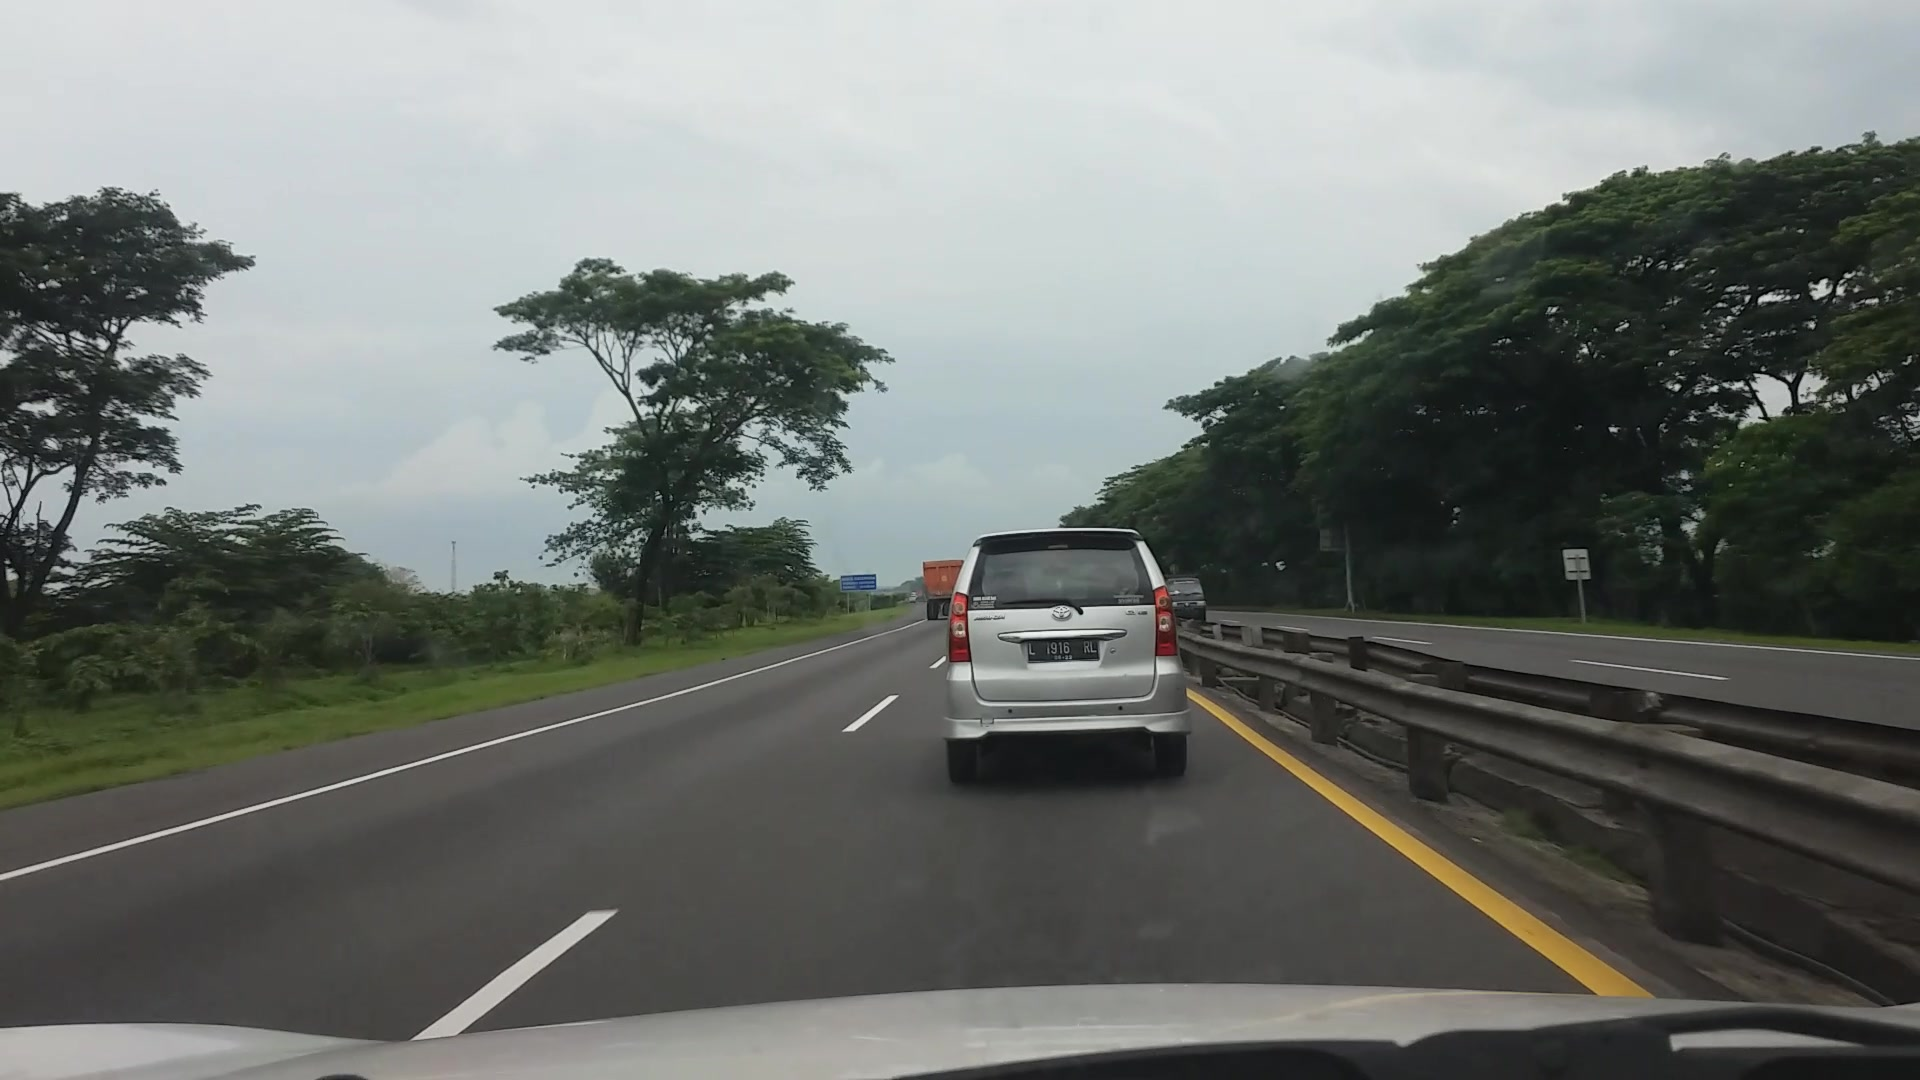plate_positive: (1027, 638, 1098, 663)
